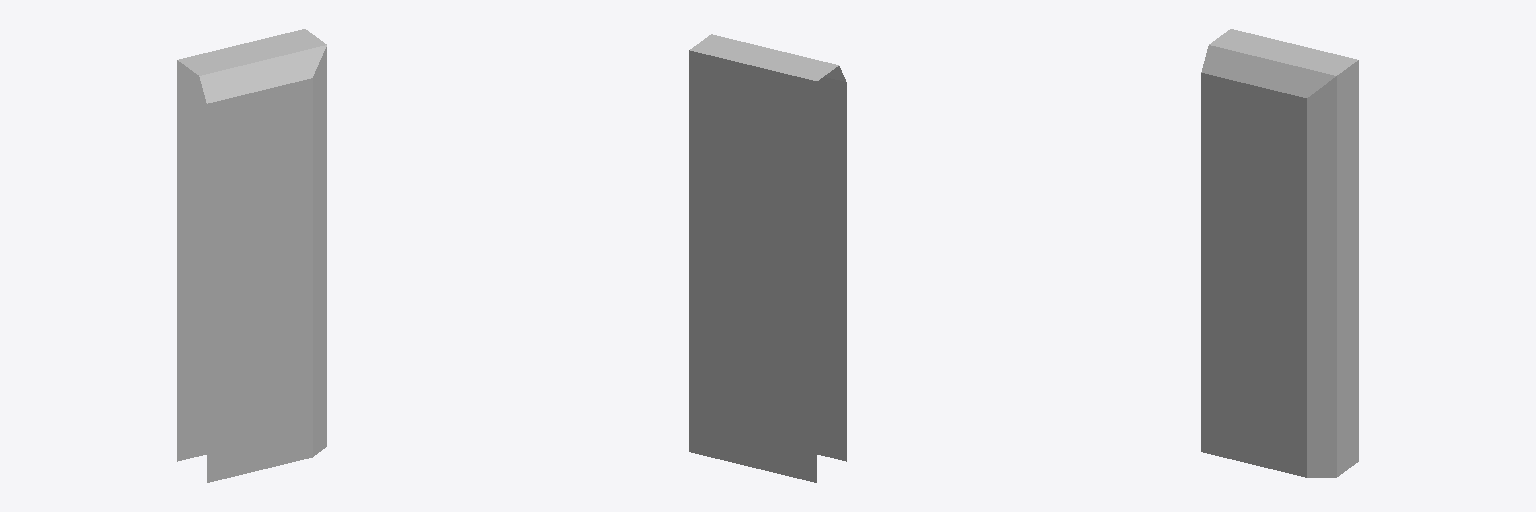
The model's file is WallTileRight.obj.
3 renders of one model, left to right at view 1: azimuth 30°, elevation 25°; view 2: azimuth 150°, elevation 25°; view 3: azimuth 330°, elevation 25°, orthographic.
Visible parts, largest first — view 1: initialShadingGroup Mesh; view 2: initialShadingGroup Mesh; view 3: initialShadingGroup Mesh.
Boxes of the visible parts, x1,y1,x2,y2 form: initialShadingGroup Mesh: [177, 29, 326, 482]; initialShadingGroup Mesh: [689, 34, 846, 482]; initialShadingGroup Mesh: [1201, 29, 1358, 477].
Size of the model in its own units: 0.5 by 1.5 by 0.2.